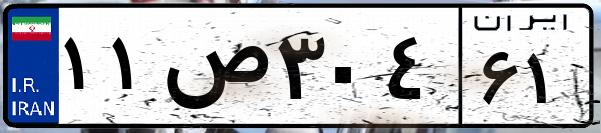0: (330, 28, 385, 110)
1: (57, 26, 110, 100), (525, 38, 570, 115), (110, 28, 158, 98)
3: (270, 28, 330, 110)
4: (385, 28, 445, 110)
6: (475, 38, 525, 113)
ص: (158, 20, 270, 120)
